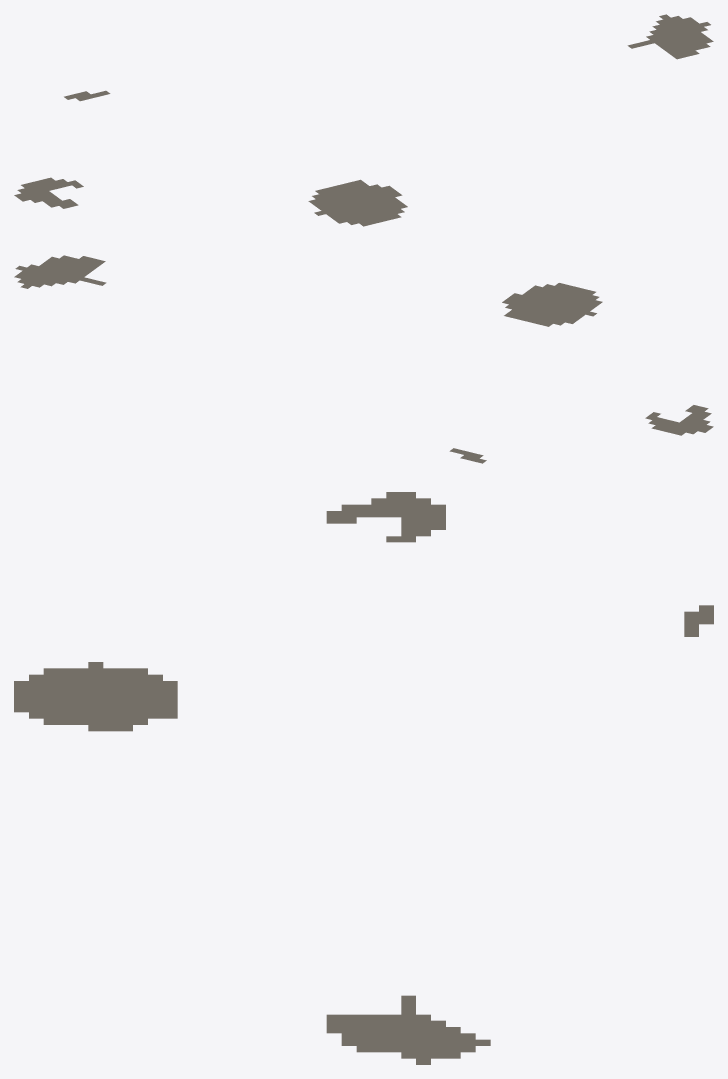
The model's file is Isl-hilly5-RocksArea.fbx.
3 views of the same model, one above another, from view 1: azimuth 30°, elevation 25°; view 2: azimuth 150°, elevation 25°; view 3: azimuth 270°, elevation 25° (orthographic). The views are drawn at different scales.
Parts seen in each view (by area): view 1: Isl-hilly5-RocksArea; view 2: Isl-hilly5-RocksArea; view 3: Isl-hilly5-RocksArea.
Boxes of the visible parts, x1,y1,x2,y2 form: Isl-hilly5-RocksArea: (14, 14, 713, 226); Isl-hilly5-RocksArea: (14, 255, 713, 463); Isl-hilly5-RocksArea: (14, 492, 713, 1064).
Bounding box in the file's own units: 91 × 0 × 47.
